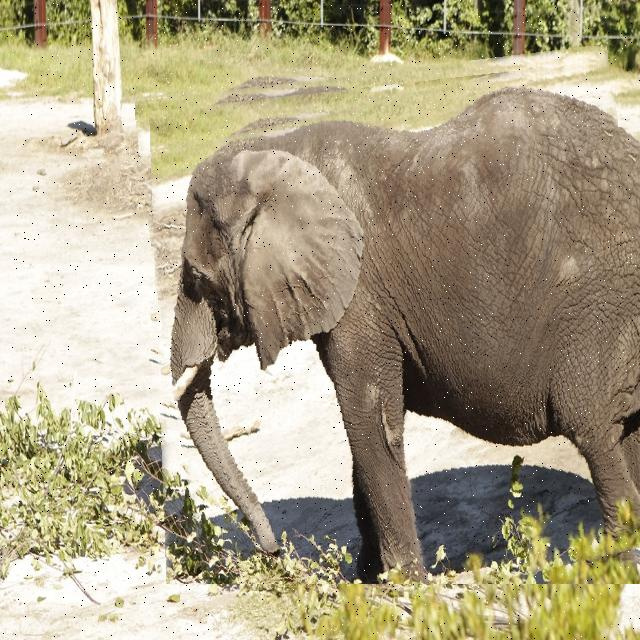elephant: (149, 57, 640, 584)
